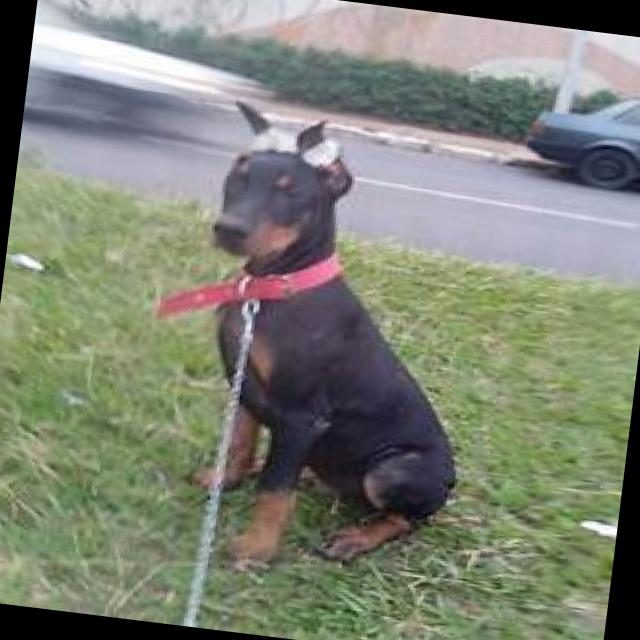dog: (183, 101, 494, 589)
